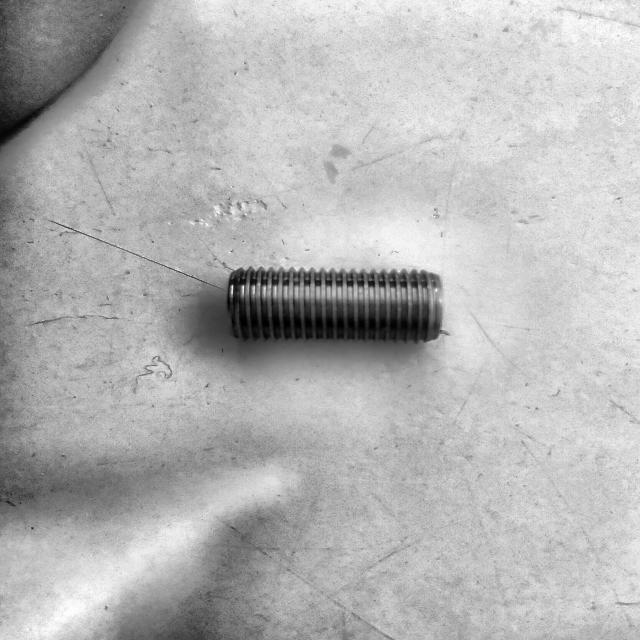Normal: (225, 266, 445, 344)
